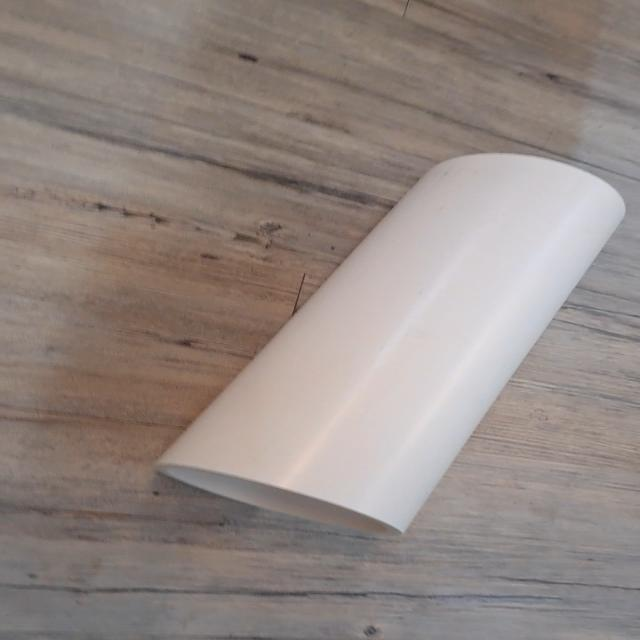CORAL: (149, 147, 632, 540)
